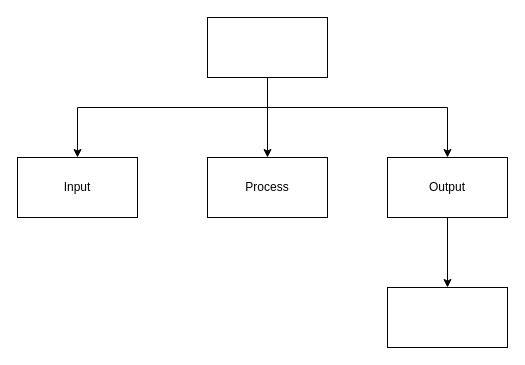
Some shapes in this 525 by 365 pixel diagram are drawn without their labels. The shapes that lost their labels are listed below. From the top down, each one's centre as x and y in pixels, then its label:
At (267,47): "Circumference Program".
At (447,317): "Show Multiplication charts from 0-9".
